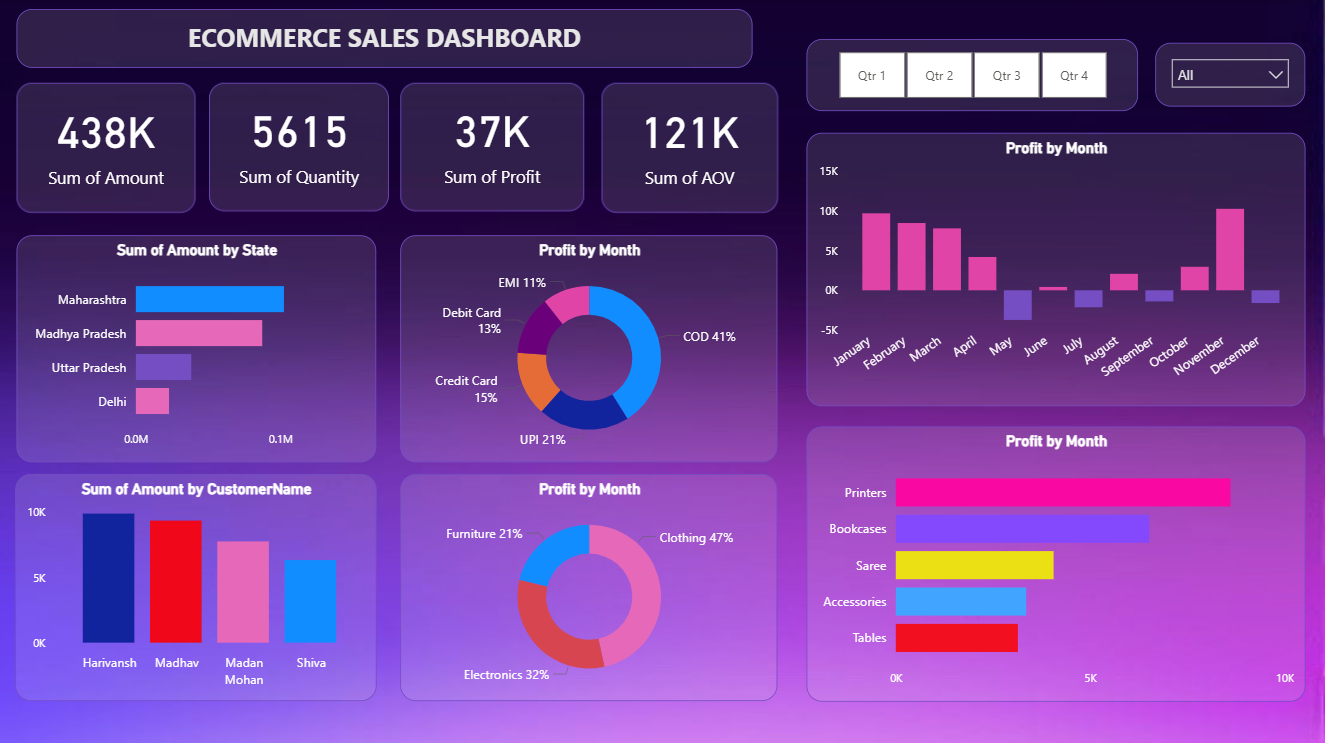

The dashboard page shown, as its layout file describes it:
{"tool":"powerbi","page":{"name":"Page 1","canvas":[1280,720],"ordinal":0},"visuals":[{"type":"textbox","box":[16.9,9.7,710.6,56.7],"z":0},{"type":"columnChart","title":"Profit by Month","fields":{"Category":["Orders_2.Order Date.Variation.Date Hierarchy.Month"],"Y":["Details.Profit - Copy"]},"box":[779.4,129.1,481.4,264.2],"z":1000},{"type":"barChart","title":"Profit by Month","fields":{"Category":["Details.Sub-Category"],"Y":["Details.Profit - Copy"]},"box":[779.4,412.6,481.4,265.4],"z":2000},{"type":"donutChart","title":"Profit by Month","fields":{"Category":["Details.Category"],"Y":["Details.Quantity"]},"box":[387.3,458.4,364.3,219.6],"z":3000},{"type":"donutChart","title":"Profit by Month","fields":{"Y":["Details.Quantity"],"Category":["Details.PaymentMode"]},"box":[387.3,228,364.3,219.6],"z":4000},{"type":"advanceCardE03760C5AB684758B56AA29F9E6C257B","fields":{"mainMeasure":["Details.Amount"]},"box":[16.9,80.8,172.5,125.5],"z":5000},{"type":"advanceCardE03760C5AB684758B56AA29F9E6C257B","fields":{"mainMeasure":["Details.Quantity"]},"box":[202.7,80.8,173.7,124.3],"z":6000},{"type":"advanceCardE03760C5AB684758B56AA29F9E6C257B","fields":{"mainMeasure":["Details.Profit - Copy"]},"box":[387.3,80.8,177.3,124.3],"z":7000},{"type":"advanceCardE03760C5AB684758B56AA29F9E6C257B","fields":{"mainMeasure":["Details.AOV"]},"box":[581.5,80.8,170.1,125.5],"z":8000},{"type":"barChart","title":"Sum of Amount by State","fields":{"Category":["Orders_2.State"],"Y":["Details.Amount"]},"box":[16.5,227.8,347.2,219.6],"z":9000},{"type":"columnChart","title":"Sum of Amount by CustomerName","fields":{"Category":["Orders_2.CustomerName"],"Y":["Details.Amount"]},"box":[15.7,458.4,348.7,219.6],"z":10000},{"type":"slicer","fields":{"Values":["Orders_2.Order Date.Variation.Date Hierarchy.Quarter"]},"box":[779.4,38.6,319.7,70],"z":11000},{"type":"slicer","fields":{"Values":["Orders_2.State"]},"box":[1116,42.2,144.8,61.5],"z":12000}]}

Visuals, with their boxes in screenshot pixels (x1, y1, x2, y2), scaled from the page's 1280x720 canvas onto the 1325x743 screenshot:
textbox: select_region(17, 10, 753, 69)
"Profit by Month" columnChart: select_region(807, 133, 1305, 406)
"Profit by Month" barChart: select_region(807, 426, 1305, 700)
"Profit by Month" donutChart: select_region(401, 473, 778, 700)
"Profit by Month" donutChart: select_region(401, 235, 778, 462)
advanceCardE03760C5AB684758B56AA29F9E6C257B - Details.Amount: select_region(17, 83, 196, 213)
advanceCardE03760C5AB684758B56AA29F9E6C257B - Details.Quantity: select_region(210, 83, 390, 212)
advanceCardE03760C5AB684758B56AA29F9E6C257B - Details.Profit - Copy: select_region(401, 83, 584, 212)
advanceCardE03760C5AB684758B56AA29F9E6C257B - Details.AOV: select_region(602, 83, 778, 213)
"Sum of Amount by State" barChart: select_region(17, 235, 376, 462)
"Sum of Amount by CustomerName" columnChart: select_region(16, 473, 377, 700)
slicer - Orders_2.Order Date.Variation.Date Hierarchy.Quarter: select_region(807, 40, 1138, 112)
slicer - Orders_2.State: select_region(1155, 44, 1305, 107)
